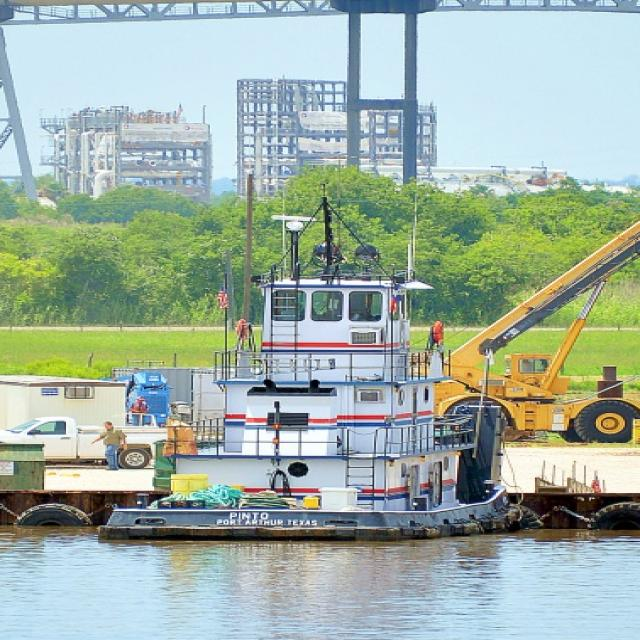tugboat: (87, 209, 531, 549)
